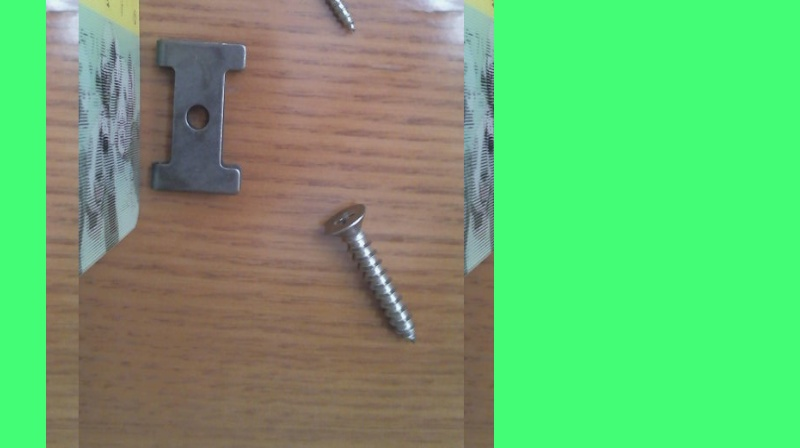O001: (258, 0, 362, 37)
O002: (150, 34, 247, 198)
S001: (319, 196, 419, 350)
